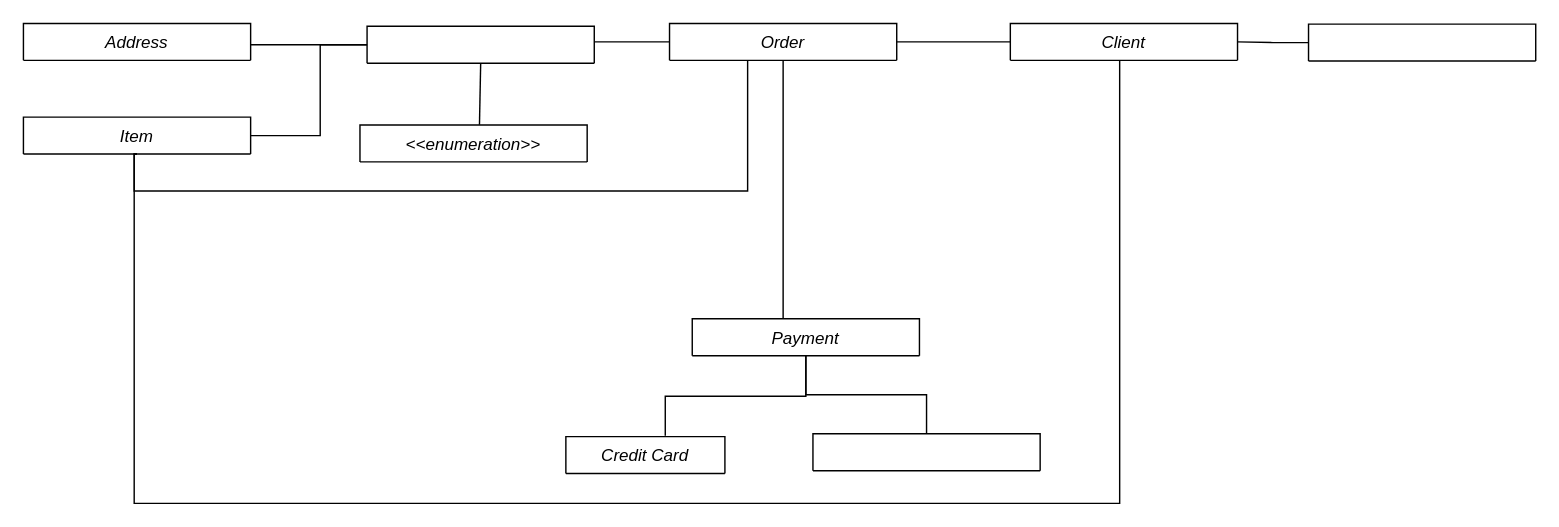
Image size: 1559x527. Some labels were removed from this diagram. The shapes that lost their labels are listed below. From the top down, each one's centre as x and y in pixels, then its label:
At point 480,44: "Provider".
At point 1421,42: "Authentication".
At point 926,451: "mobile payment provider".
